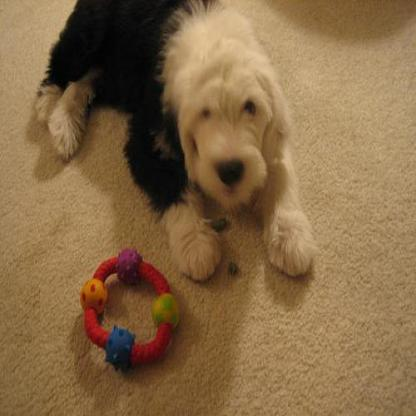Old_English_sheepdog: (32, 0, 320, 291)
